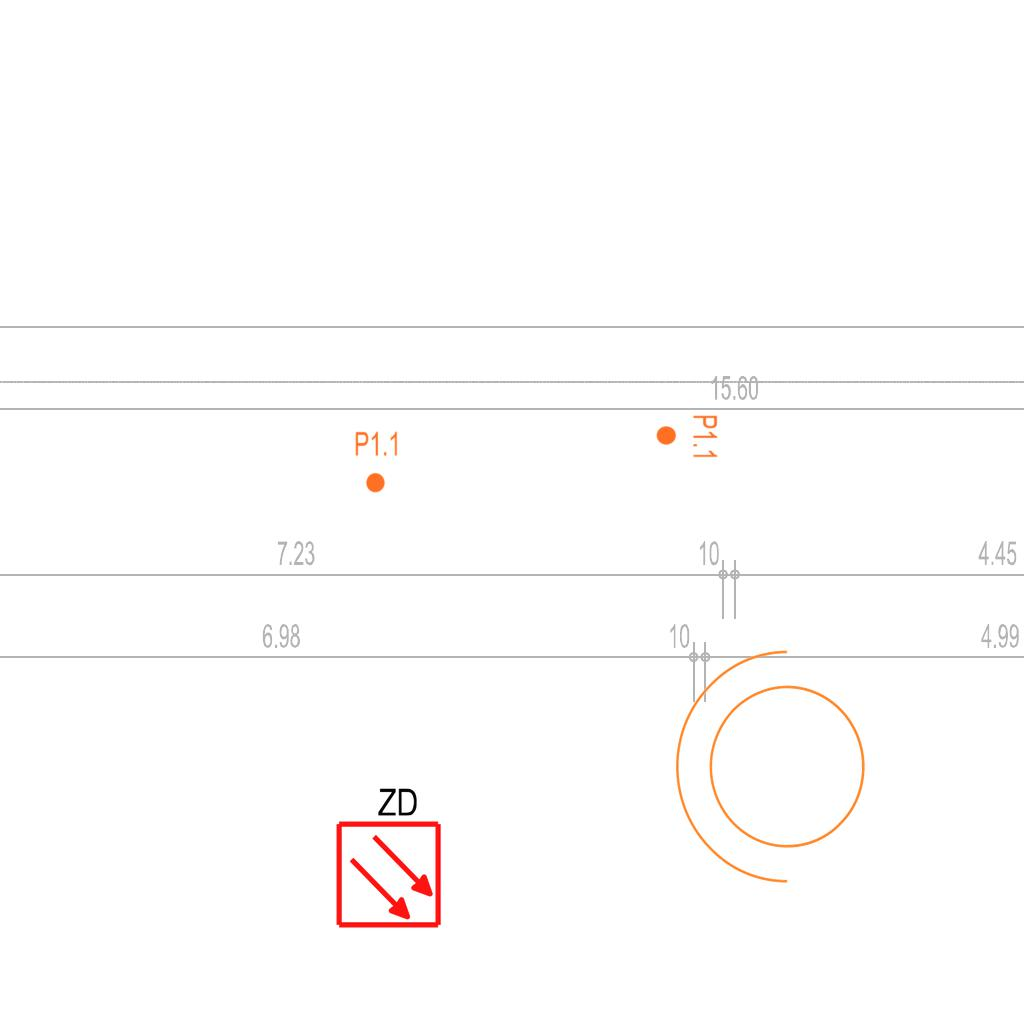Downlight_LED_Einbauleuchten_Flur: (354, 430, 400, 494), (655, 414, 719, 460)
Scheinwerfer_fuer_Alarmbeleuchtung: (665, 641, 890, 905)
ZD_Melder_in_Zwischendecke_mit_Revisionsoeffnung_mind_40_x_40_cm: (330, 781, 444, 930)
